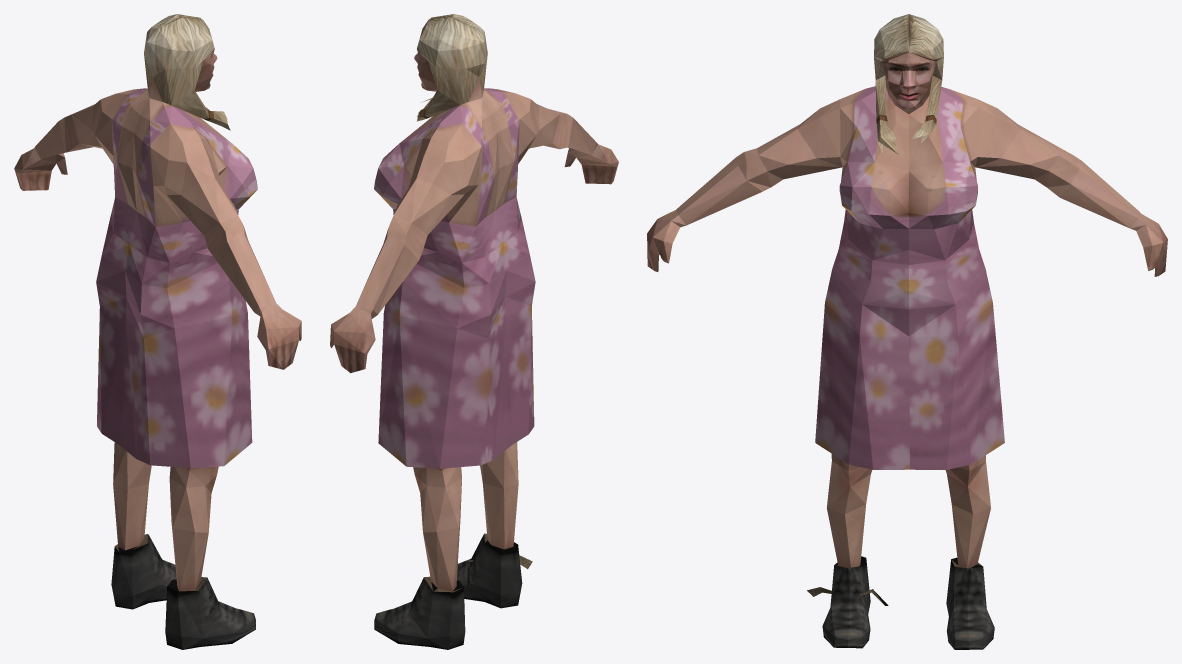
File: cwfyfr2.obj
The picture shows the model from 3 angles, left to right: view 1: azimuth 30°, elevation 25°; view 2: azimuth 150°, elevation 25°; view 3: azimuth 270°, elevation 25°; orthographic projection. The views are drawn at different scales.
Visible parts, largest first — view 1: _Pelvis; view 2: _Pelvis; view 3: _Pelvis.
Boxes of the visible parts, left/top/right/bottom form: _Pelvis: left=14, top=14, right=301, bottom=649; _Pelvis: left=330, top=14, right=618, bottom=649; _Pelvis: left=647, top=14, right=1167, bottom=649.
Bounding box in the file's own units: 0.3439 × 1.66 × 1.28.
1 material, 1 textured.
